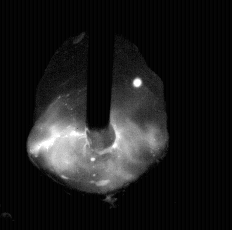arame: (87, 0, 112, 132)
poca: (28, 0, 170, 230)
